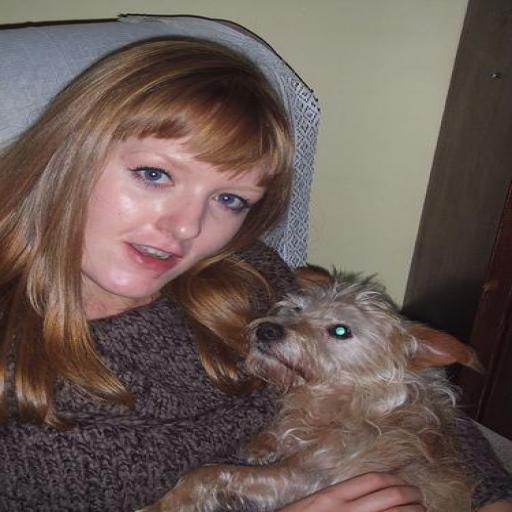dog_face: (228, 268, 485, 402)
